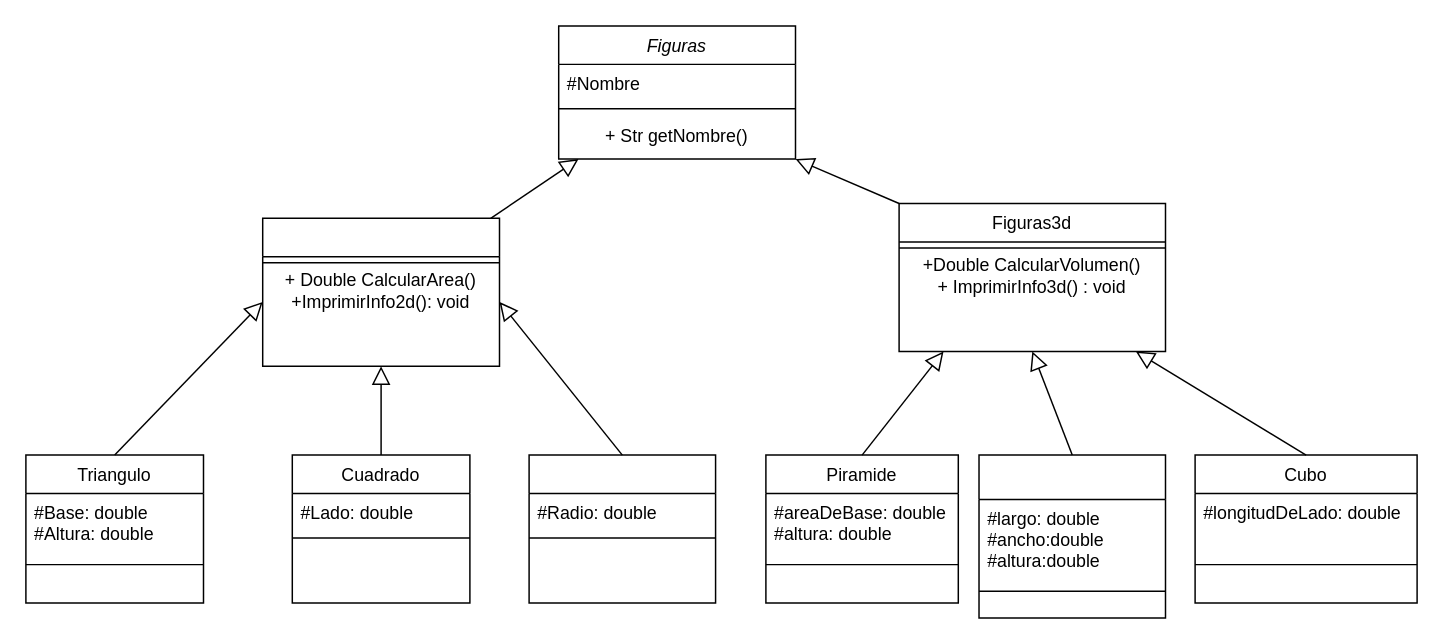
Some shapes in this 1443 by 644 pixel diagram are drawn without their labels. Each missing label, with the box of its shape:
Circulo: (528, 454, 716, 603)
Figuras2d: (261, 217, 500, 366)
Prisma: (978, 454, 1166, 618)
